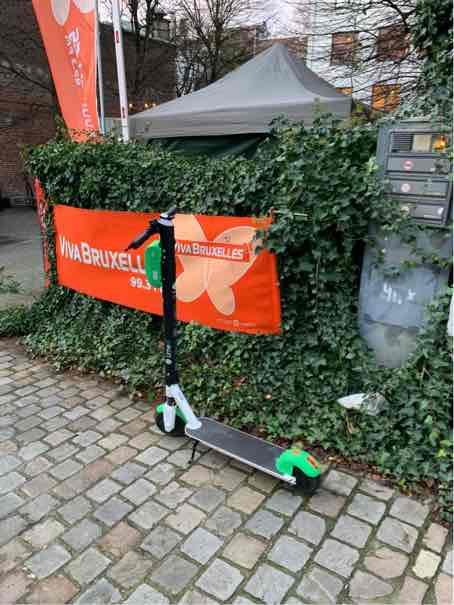scooter: (112, 171, 331, 511)
